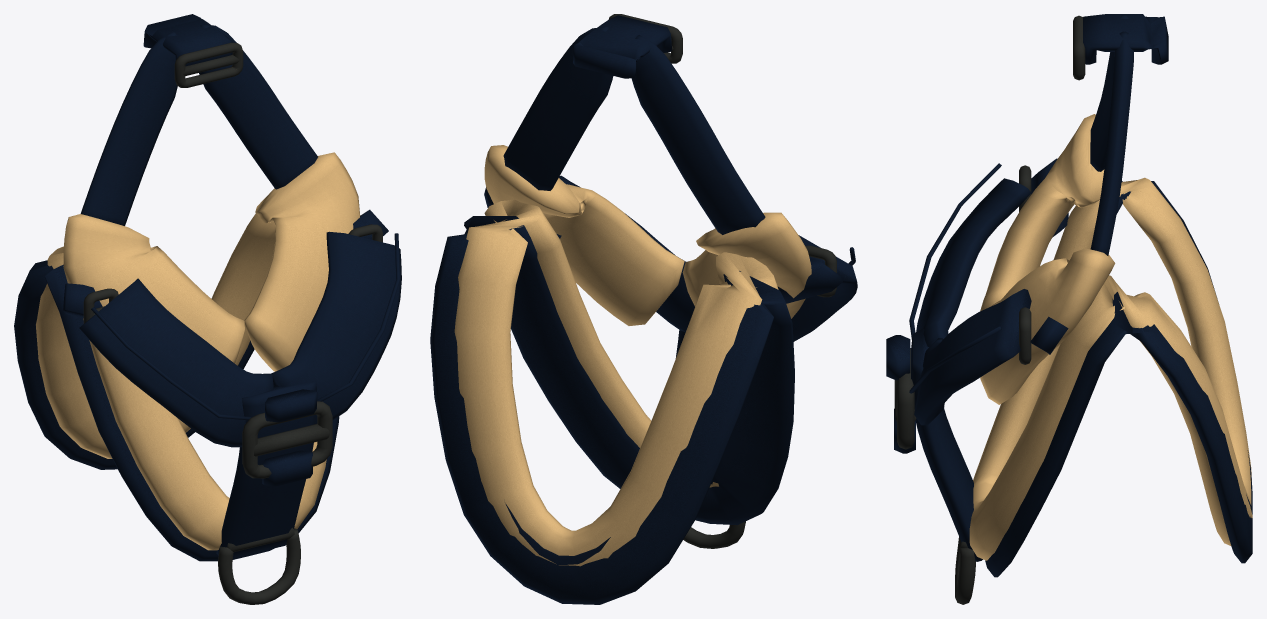
File: PM_Harness_Navy.fbx
3 renders of one model, left to right at view 1: azimuth 30°, elevation 25°; view 2: azimuth 150°, elevation 25°; view 3: azimuth 270°, elevation 25°, orthographic. The views are drawn at different scales.
Visible parts, largest first — view 1: PM_Harness_Navy; view 2: PM_Harness_Navy; view 3: PM_Harness_Navy.
Boxes of the visible parts, <box> form: PM_Harness_Navy: <box>14,14,401,604</box>; PM_Harness_Navy: <box>430,14,857,604</box>; PM_Harness_Navy: <box>886,14,1252,604</box>.
Size of the model in its own units: 60.79 by 93.08 by 53.7.
1 material, 1 textured.
